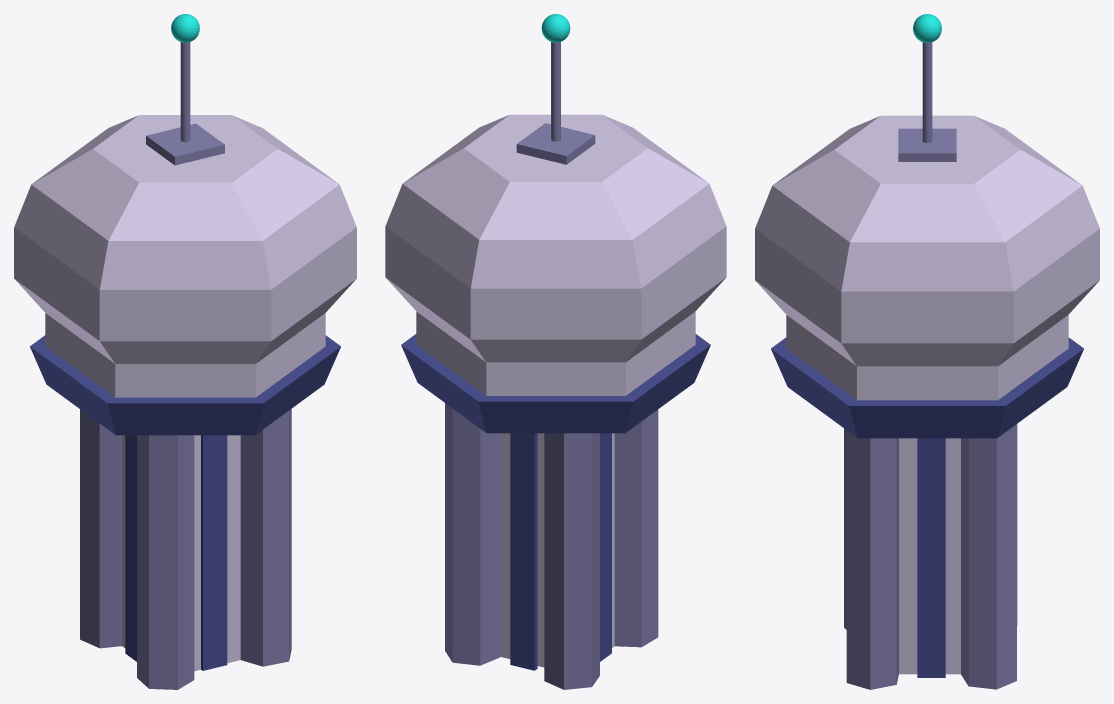
Rendered from WaterTower.fbx.
The picture shows the model from 3 angles, left to right: view 1: azimuth 30°, elevation 25°; view 2: azimuth 150°, elevation 25°; view 3: azimuth 270°, elevation 25°; orthographic projection.
Parts seen in each view (by area): view 1: Cylinder.006, Cylinder.002, Cylinder.001, Cylinder.004, Cylinder.005, Cylinder.003, Cube.005, Cube, Cube.002, Cube.001, Cylinder.007, Sphere; view 2: Cylinder.006, Cylinder.003, Cylinder, Cylinder.004, Cylinder.002, Cylinder.005, Cube.003, Cube, Cube.002, Cube.001, Cylinder.007, Sphere; view 3: Cylinder.006, Cylinder, Cylinder.001, Cylinder.004, Cylinder.005, Cube, Cube.004, Cube.001, Cylinder.007, Sphere, Cylinder.002.
Boxes of the visible parts, bbox=[...] form: Cylinder.006: bbox=[14, 115, 356, 363]; Cylinder.002: bbox=[137, 435, 194, 689]; Cylinder.001: bbox=[240, 409, 291, 666]; Cylinder.004: bbox=[30, 335, 340, 435]; Cylinder.005: bbox=[45, 313, 325, 397]; Cylinder.003: bbox=[80, 409, 121, 648]; Cube.005: bbox=[201, 435, 227, 670]; Cube: bbox=[122, 435, 240, 671]; Cube.002: bbox=[125, 435, 136, 661]; Cube.001: bbox=[146, 123, 224, 165]; Cylinder.007: bbox=[180, 42, 190, 142]; Sphere: bbox=[171, 14, 199, 42]; Cylinder.006: bbox=[385, 114, 726, 362]; Cylinder.003: bbox=[544, 433, 599, 689]; Cylinder: bbox=[445, 403, 500, 665]; Cylinder.004: bbox=[401, 334, 710, 433]; Cylinder.002: bbox=[614, 409, 658, 647]; Cylinder.005: bbox=[416, 311, 695, 395]; Cube.003: bbox=[510, 433, 537, 670]; Cube: bbox=[500, 433, 614, 667]; Cube.002: bbox=[600, 433, 611, 661]; Cube.001: bbox=[516, 123, 595, 164]; Cylinder.007: bbox=[551, 42, 560, 141]; Sphere: bbox=[541, 14, 570, 42]; Cylinder.006: bbox=[755, 115, 1099, 366]; Cylinder: bbox=[961, 424, 1016, 689]; Cylinder.001: bbox=[846, 430, 898, 689]; Cylinder.004: bbox=[771, 337, 1083, 438]; Cylinder.005: bbox=[786, 315, 1068, 400]; Cube: bbox=[899, 438, 960, 674]; Cube.004: bbox=[917, 438, 945, 677]; Cube.001: bbox=[898, 128, 956, 161]; Cylinder.007: bbox=[922, 42, 932, 142]; Sphere: bbox=[913, 14, 941, 42]; Cylinder.002: bbox=[844, 428, 846, 629].
Size of the model in its own units: 1029 by 2419 by 1188.
